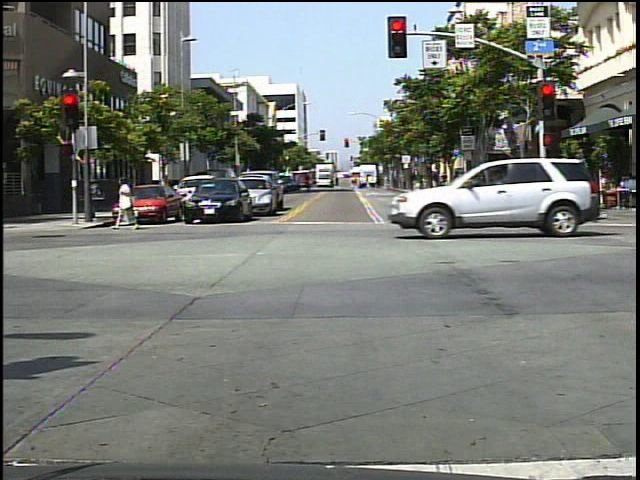person: (540, 169, 574, 231), (113, 170, 144, 234), (549, 160, 571, 211)
